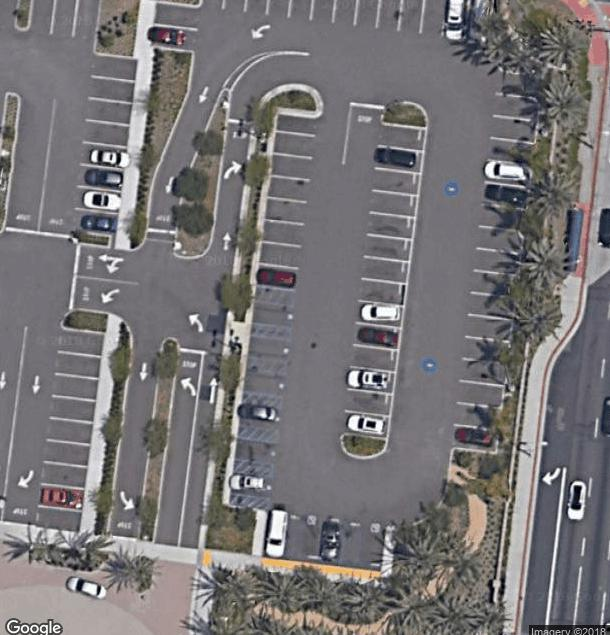parkingspot: (448, 65, 547, 454), (339, 120, 429, 441), (32, 324, 107, 537), (70, 51, 140, 239), (197, 0, 493, 44), (253, 111, 321, 293), (260, 507, 389, 574), (26, 0, 103, 42), (148, 0, 203, 54), (246, 334, 294, 364), (242, 370, 290, 400), (233, 437, 280, 467), (237, 402, 283, 432), (251, 300, 296, 330), (230, 471, 274, 501)
